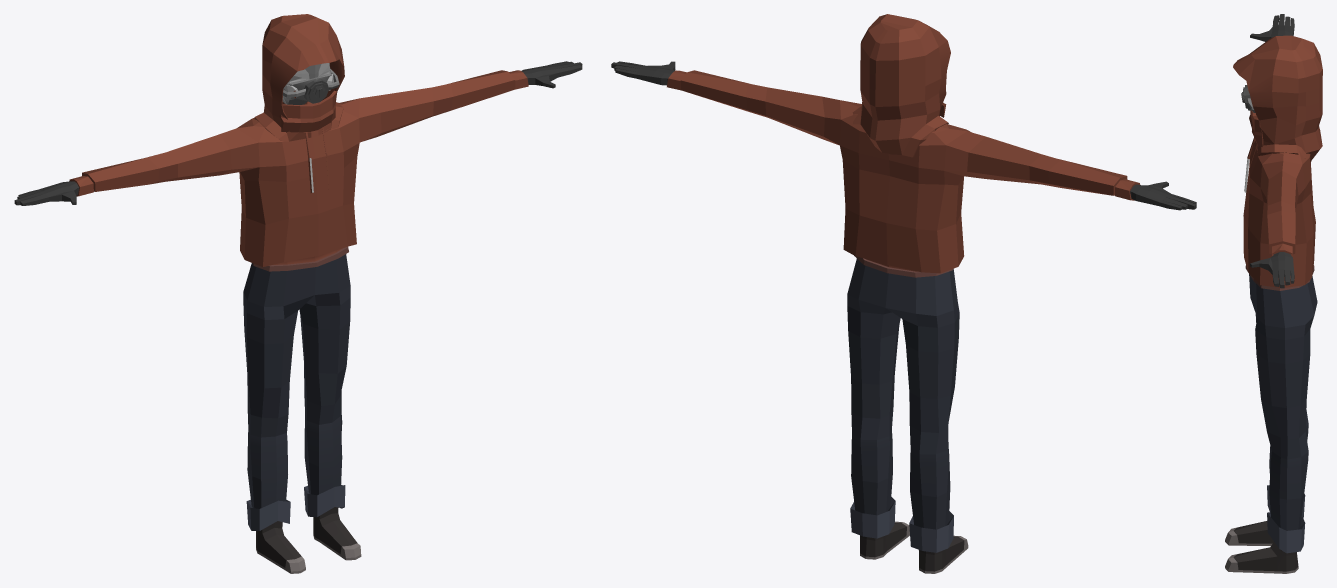
Rendered from LittaModel.fbx.
The picture shows the model from 3 angles, left to right: view 1: azimuth 30°, elevation 25°; view 2: azimuth 150°, elevation 25°; view 3: azimuth 270°, elevation 25°; orthographic projection. The views are drawn at different scales.
Parts seen in each view (by area): view 1: Litta; view 2: Litta; view 3: Litta.
Boxes of the visible parts, <box> form: Litta: <box>14,14,582,573</box>; Litta: <box>611,14,1196,573</box>; Litta: <box>1225,14,1322,573</box>.
Bounding box in the file's own units: 194 × 171 × 29.51.
